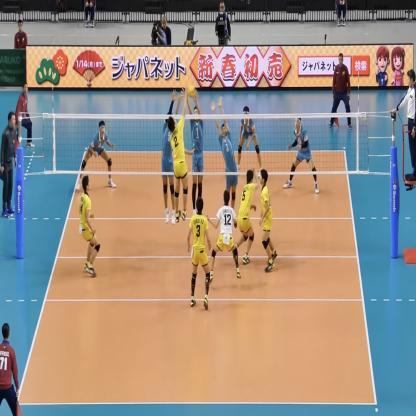spike: (166, 84, 200, 224)
